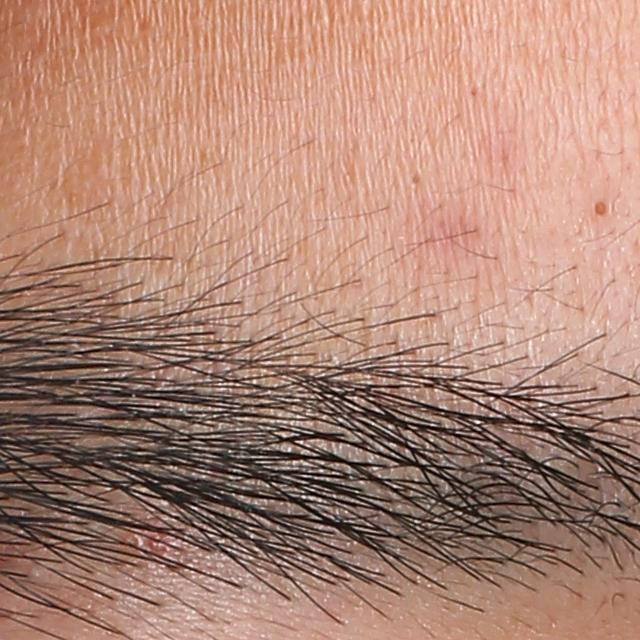comedo: (586, 194, 611, 220), (409, 173, 423, 189)
